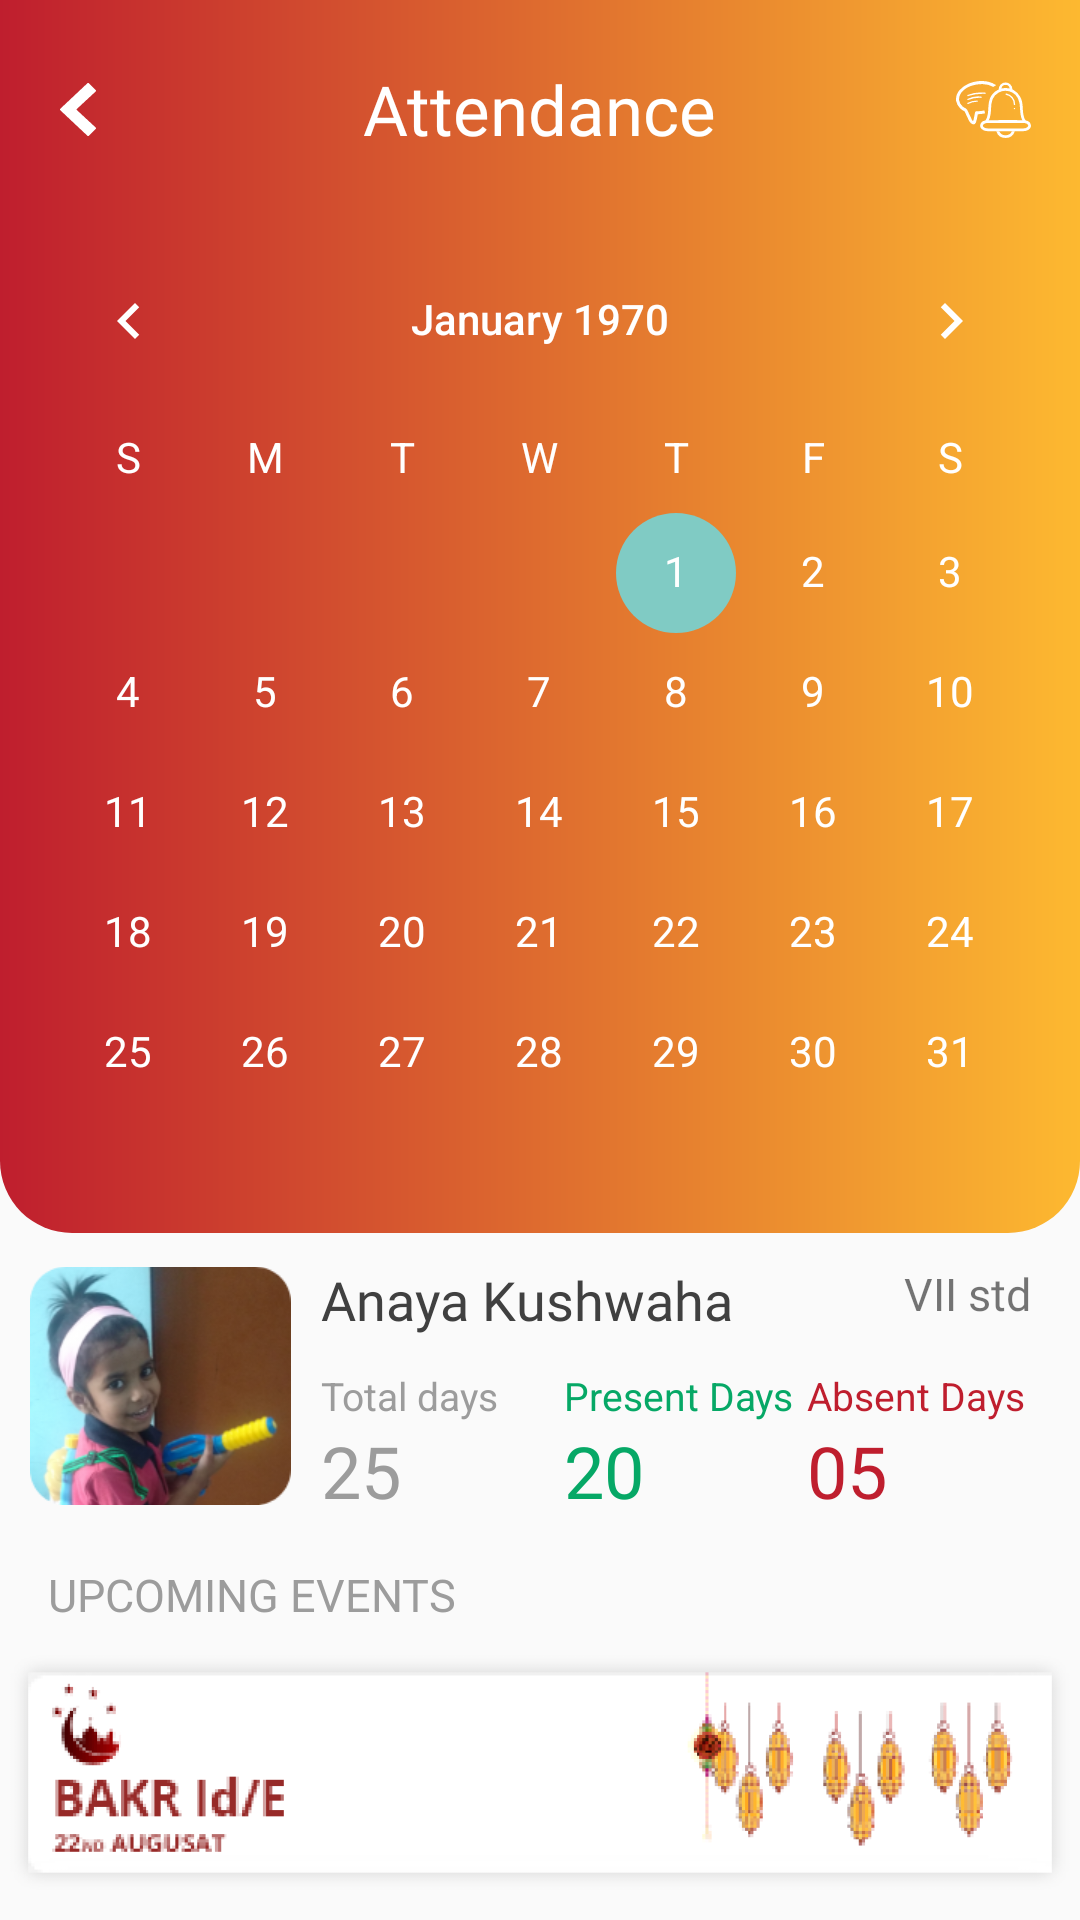

Named icons in this screenshot (1080x1920) and their bounding boxes, (x1, y1, x2, y2):
left: (60, 83, 96, 136)
message notification: (956, 81, 1031, 138)
